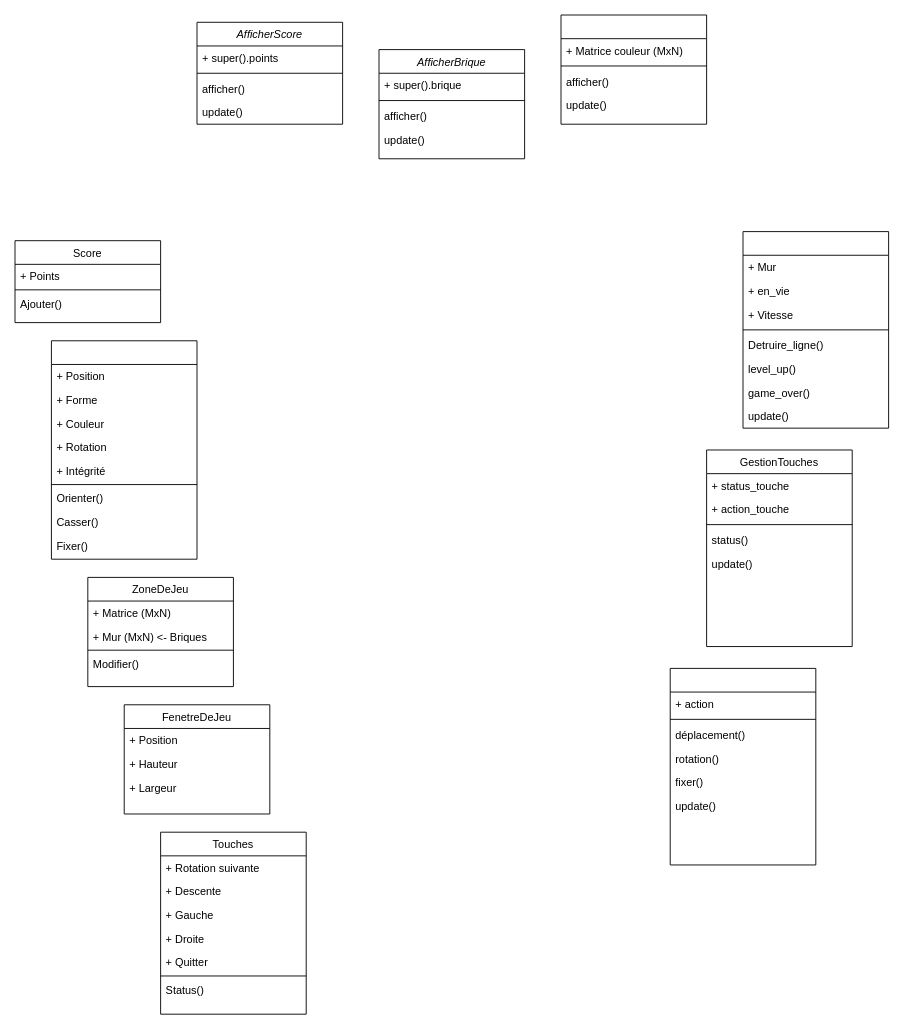
The diagram is 904 pixels wide and 1029 high, and some of its shapes have lost their labels. The box of each missing label's shape, as (x1, y1, x2, y2) in pixels:
AfficherZoneJeu: (560, 14, 707, 124)
Brique: (51, 340, 197, 559)
GestionBrique: (669, 667, 816, 865)
GestionZoneJeu: (742, 231, 889, 428)
